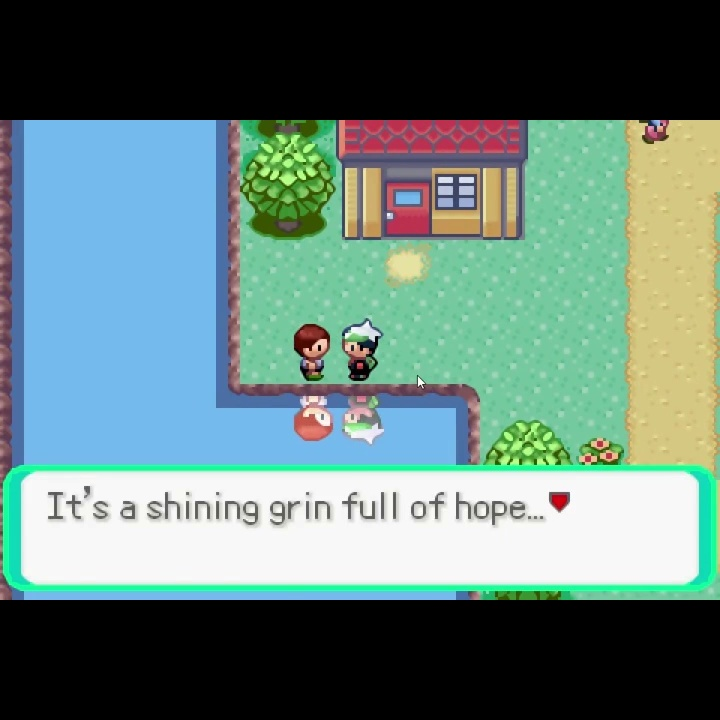house: (336, 118, 528, 243)
npc: (339, 316, 384, 383), (292, 321, 331, 383)
wall: (240, 132, 337, 241), (480, 419, 574, 466), (239, 121, 335, 148)
